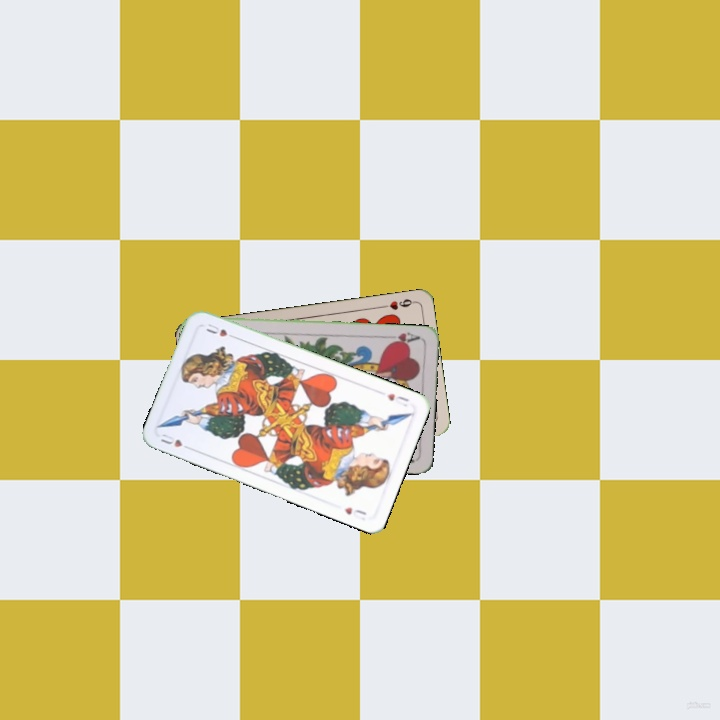H9: (377, 295, 417, 312)
HA: (382, 328, 422, 348)
HU: (157, 430, 195, 453), (383, 389, 411, 409)
